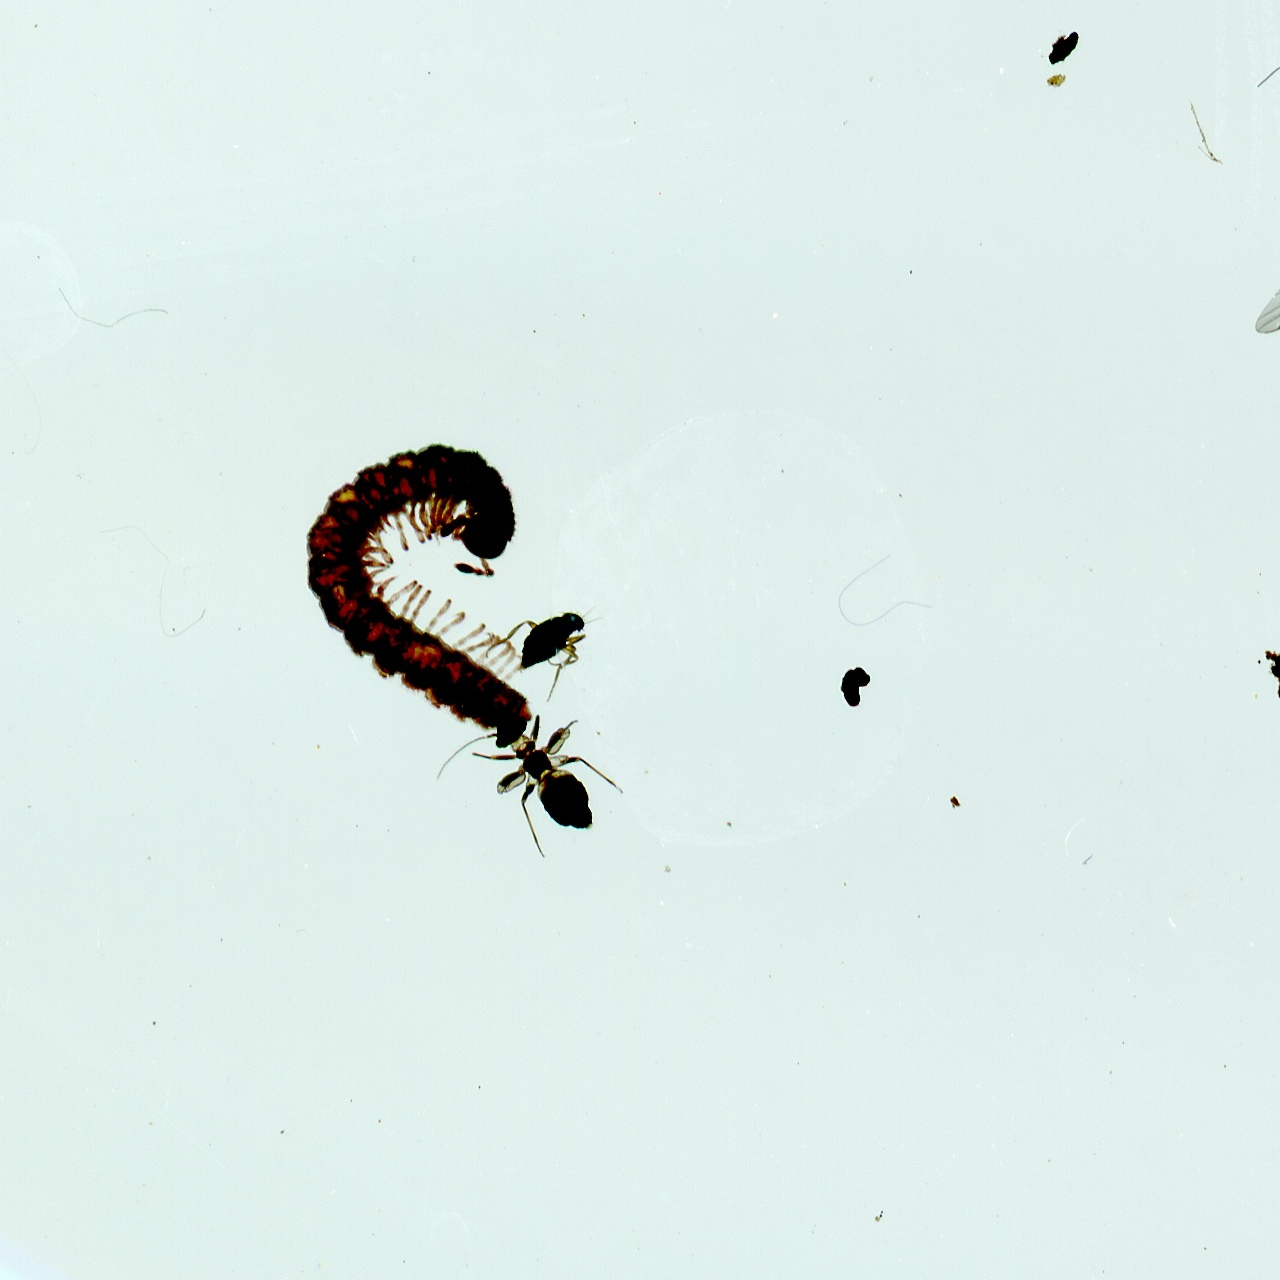arthropod: (294, 435, 542, 737), (423, 674, 640, 890), (1212, 94, 1280, 434), (479, 595, 613, 707)
